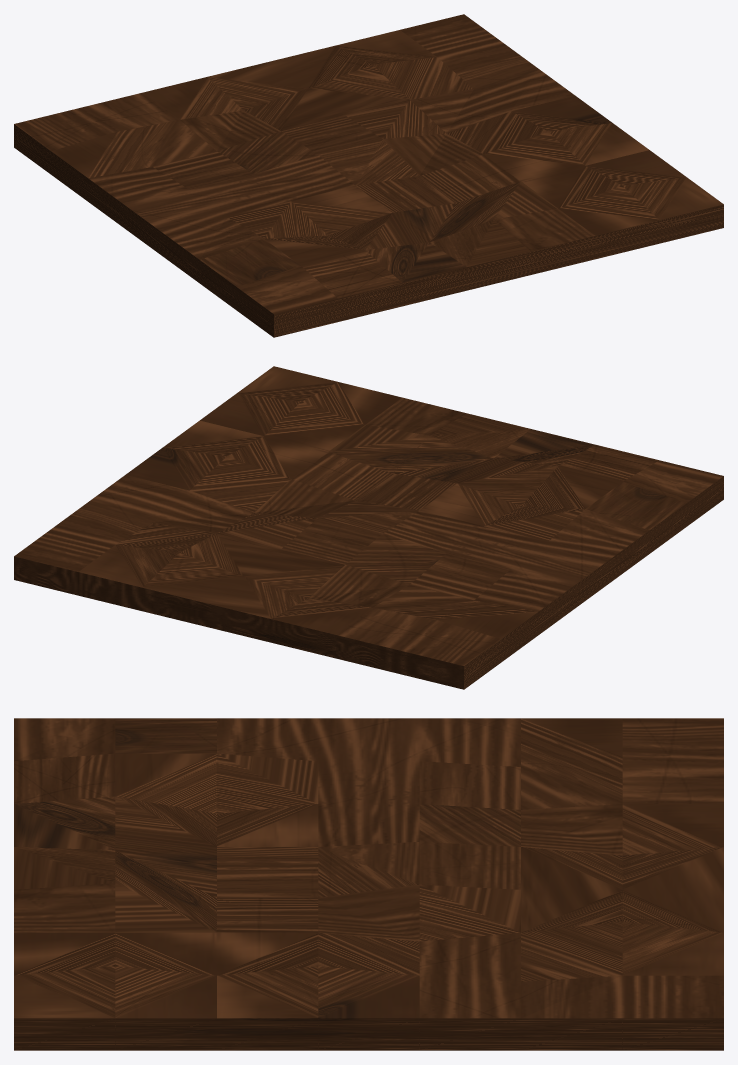
Rendered from floor4.fbx.
3 renders of one model, top to bottom at view 1: azimuth 30°, elevation 25°; view 2: azimuth 150°, elevation 25°; view 3: azimuth 270°, elevation 25°, orthographic. The views are drawn at different scales.
Visible parts, largest first — view 1: Cube.001; view 2: Cube.001; view 3: Cube.001.
Part boxes in pixels (box(x1,y1,x2,y2)): Cube.001: box(14, 14, 723, 337); Cube.001: box(14, 366, 723, 689); Cube.001: box(14, 718, 723, 1050).
Size of the model in its own units: 400 by 26.82 by 400.
Materials: 1 (1 with a texture image).
